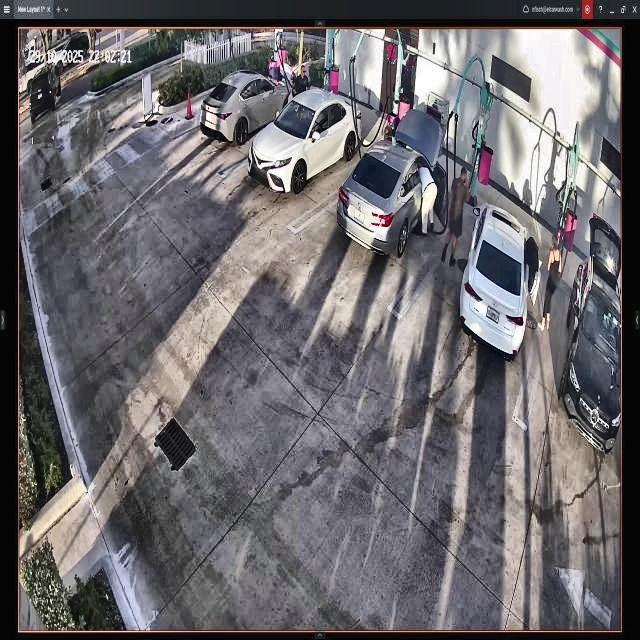Car: (338, 104, 436, 254), (248, 86, 363, 194), (461, 207, 534, 363), (201, 71, 293, 146)
